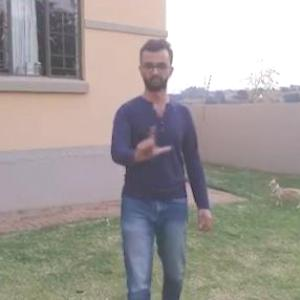land_hand: (129, 120, 171, 166)
